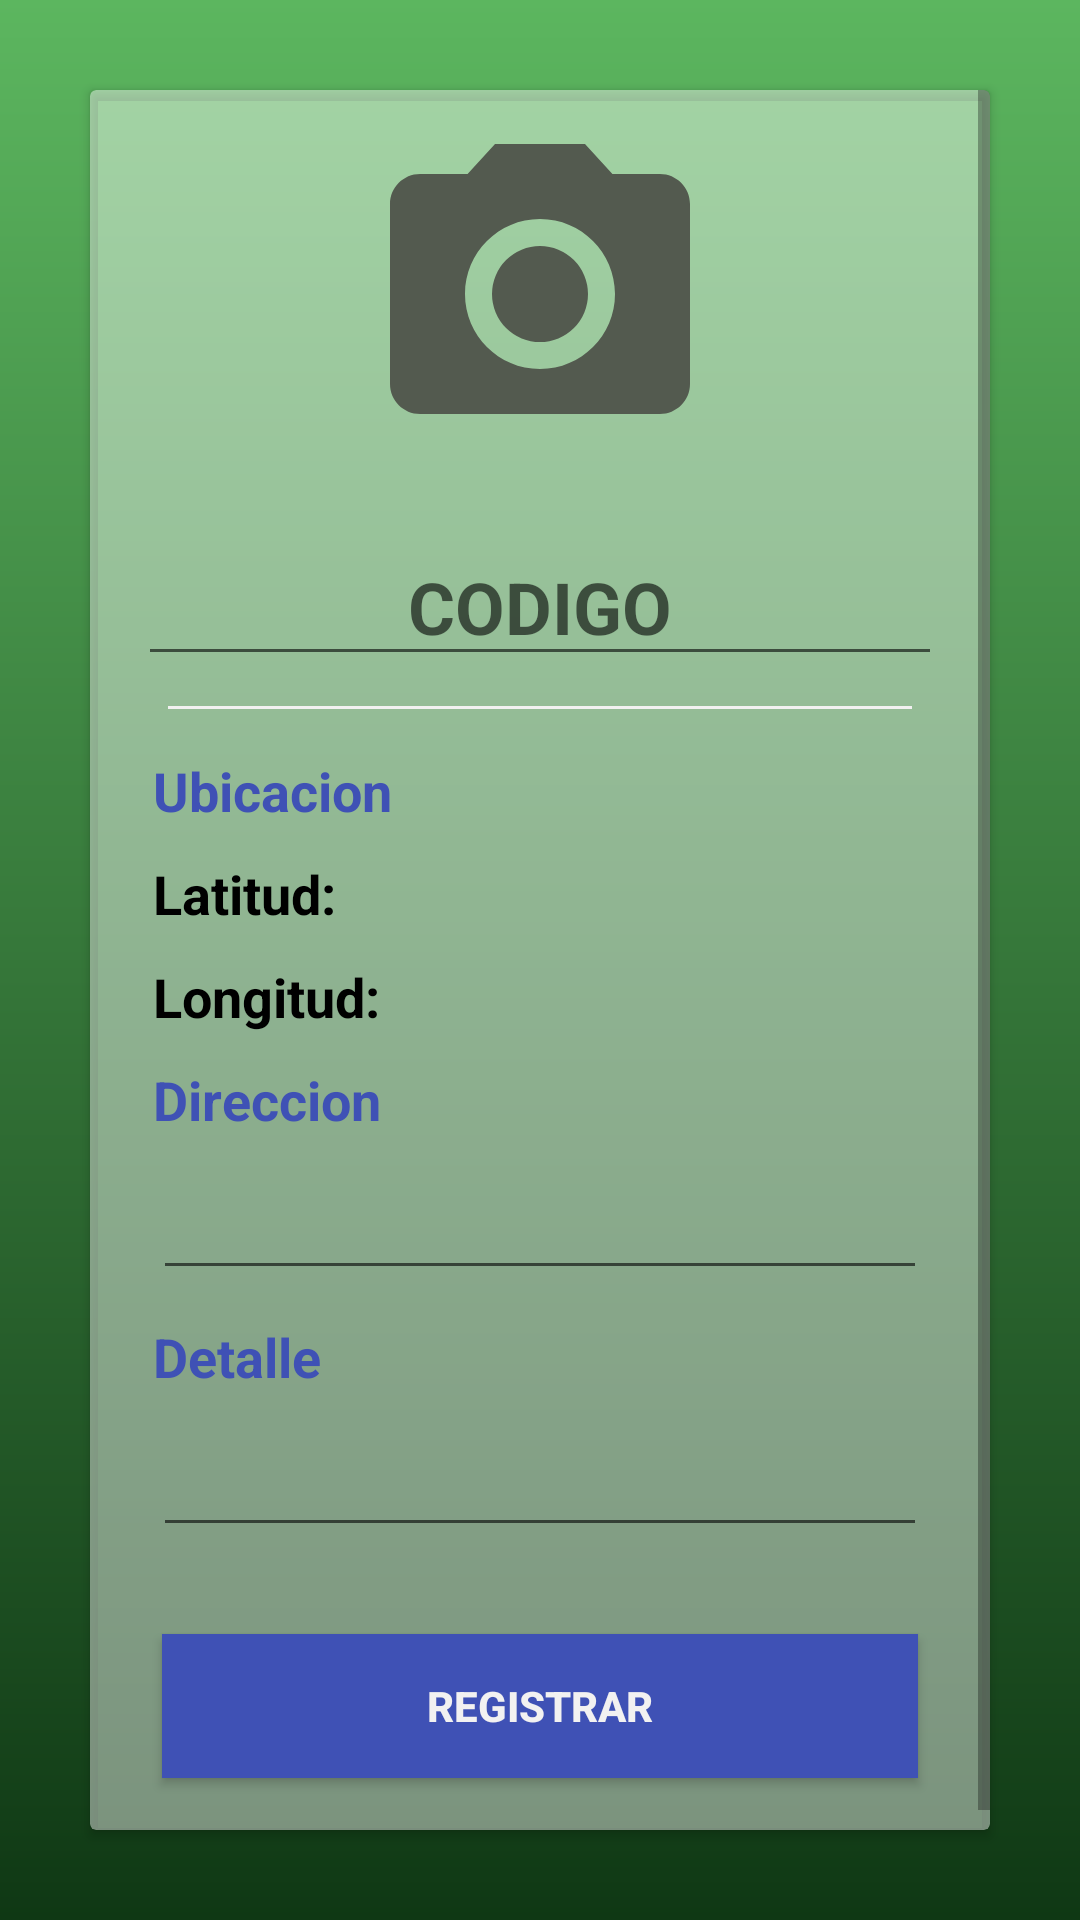

Icon bounding boxes for this 1080px x 1920px phone screenshot, format (x1, y1, x2, y2):
photo camera: (390, 144, 690, 414)
